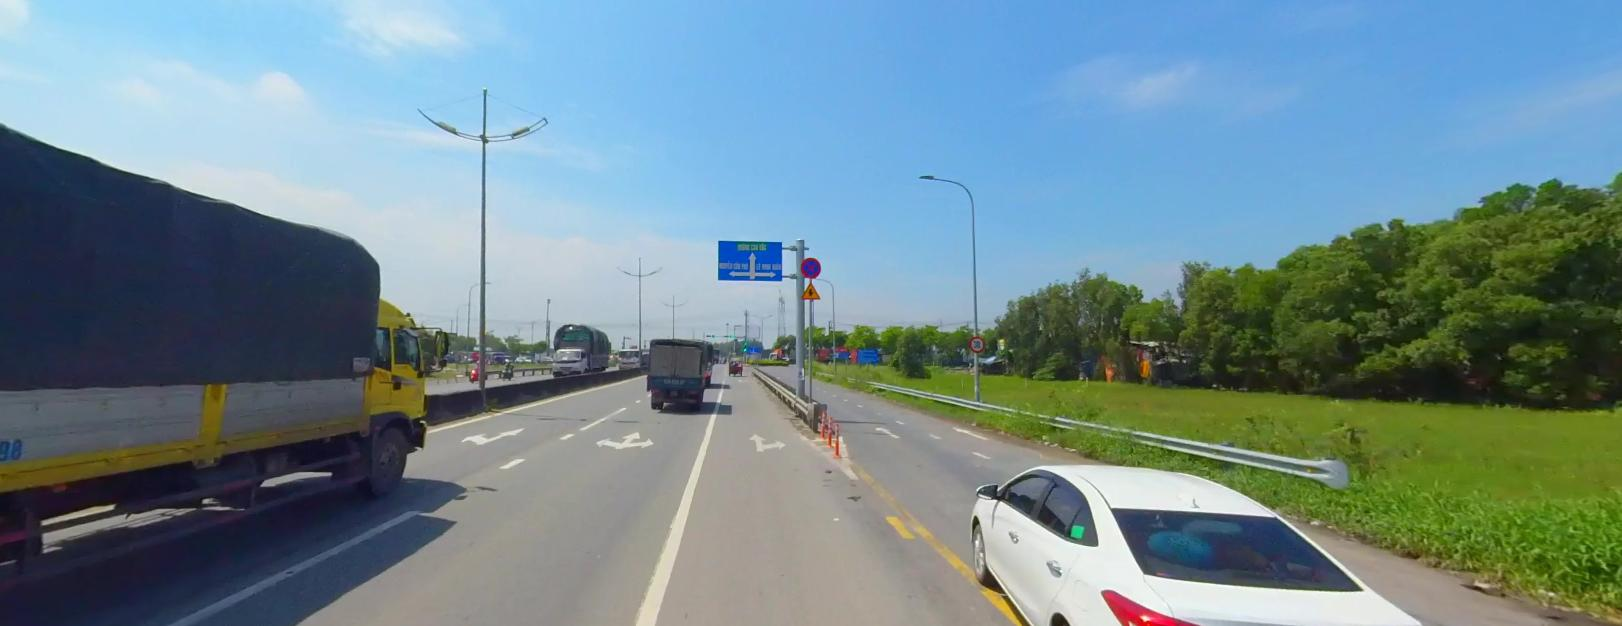Cam dung va do: (800, 256, 820, 277)
Gioi han toc do: (969, 335, 984, 351)
Nguy hiem: (800, 281, 821, 297)
